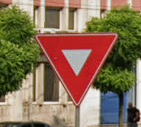cedeaza: (36, 31, 118, 109)
